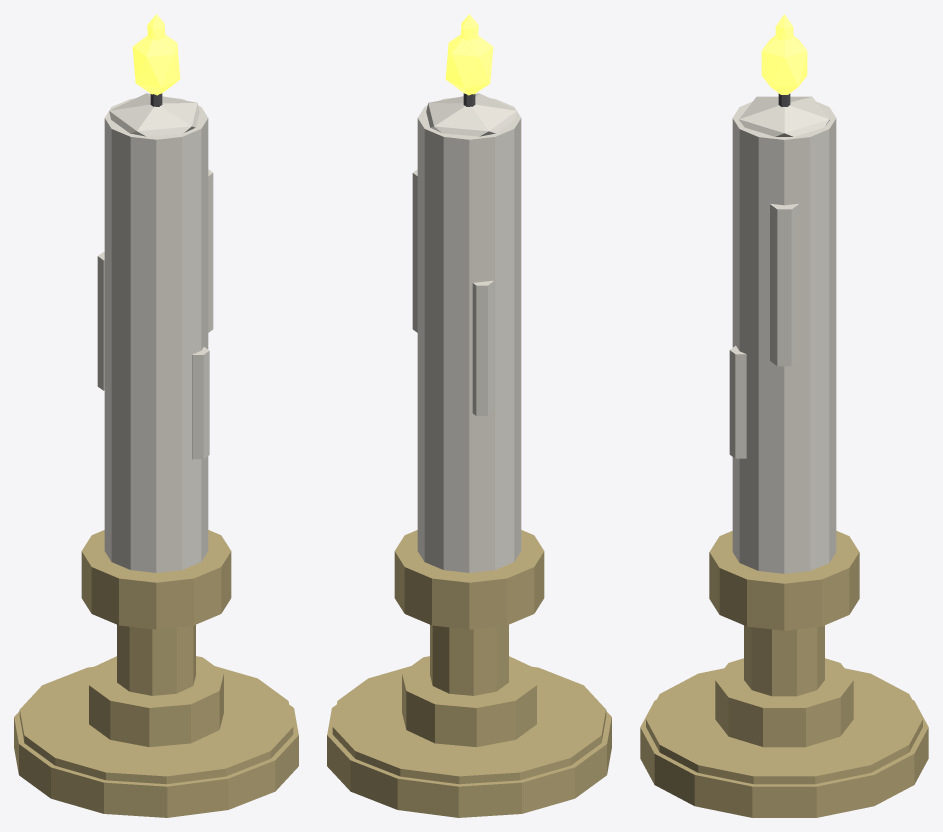
Rendered from candle.glb.
The picture shows the model from 3 angles, left to right: view 1: azimuth 30°, elevation 25°; view 2: azimuth 150°, elevation 25°; view 3: azimuth 270°, elevation 25°; orthographic projection.
Visible parts, largest first — view 1: Candle; view 2: Candle; view 3: Candle.
Boxes of the visible parts, x1,y1,x2,y2 form: Candle: (14,14,298,817); Candle: (327,14,611,817); Candle: (640,14,928,817).
Bounding box in the file's own units: 0.0975 × 0.2848 × 0.1.
